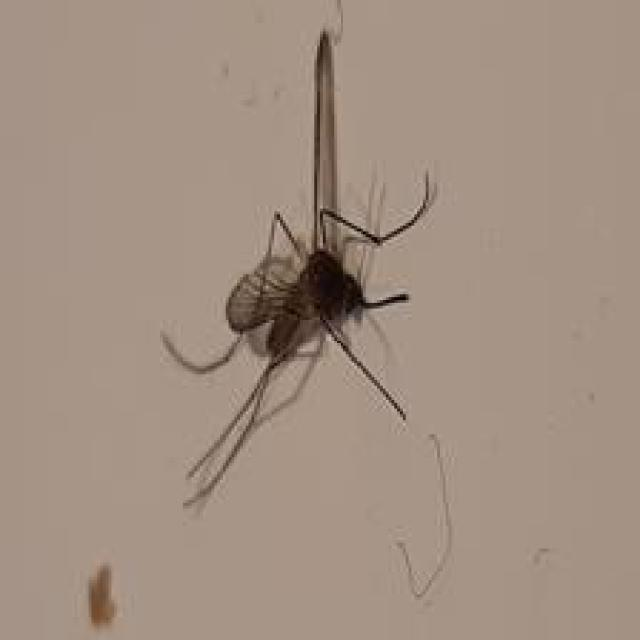Culex: (158, 3, 453, 597)
